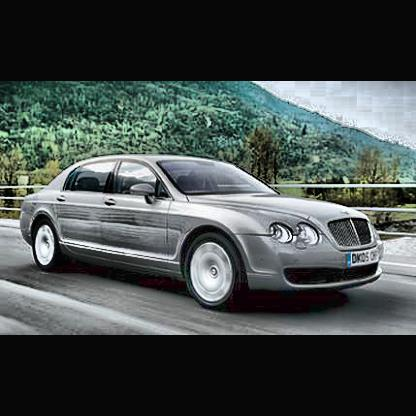Bentley Continental Flying Spur Sedan 2007: (18, 147, 391, 314)
